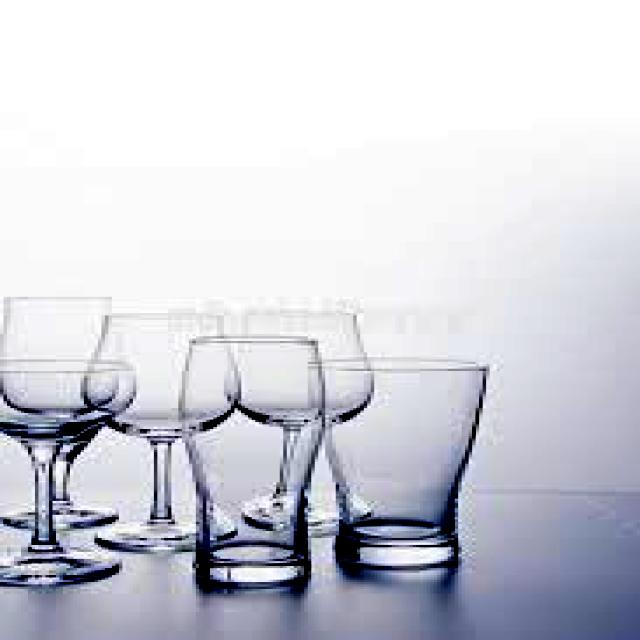Glass: (301, 353, 491, 573), (176, 335, 328, 593)
